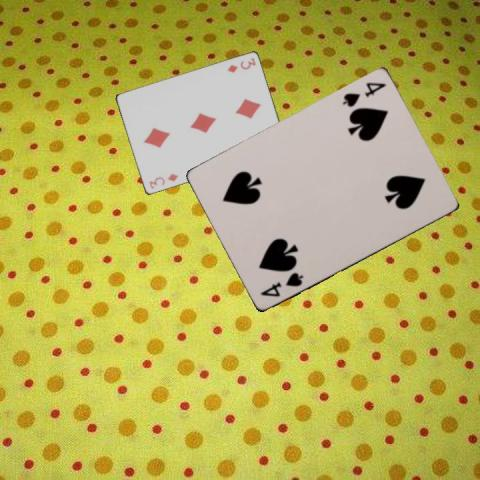3d: (146, 170, 179, 190), (224, 55, 257, 74)
4s: (257, 269, 305, 299), (340, 80, 388, 110)
